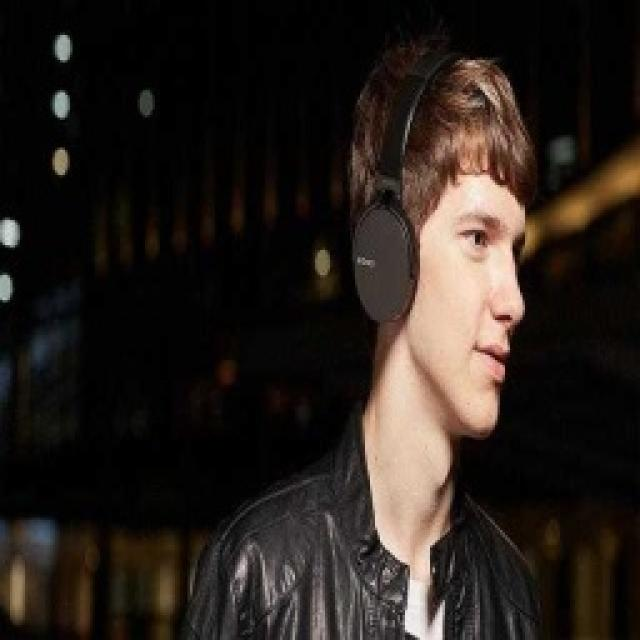headphones: (348, 42, 462, 322)
